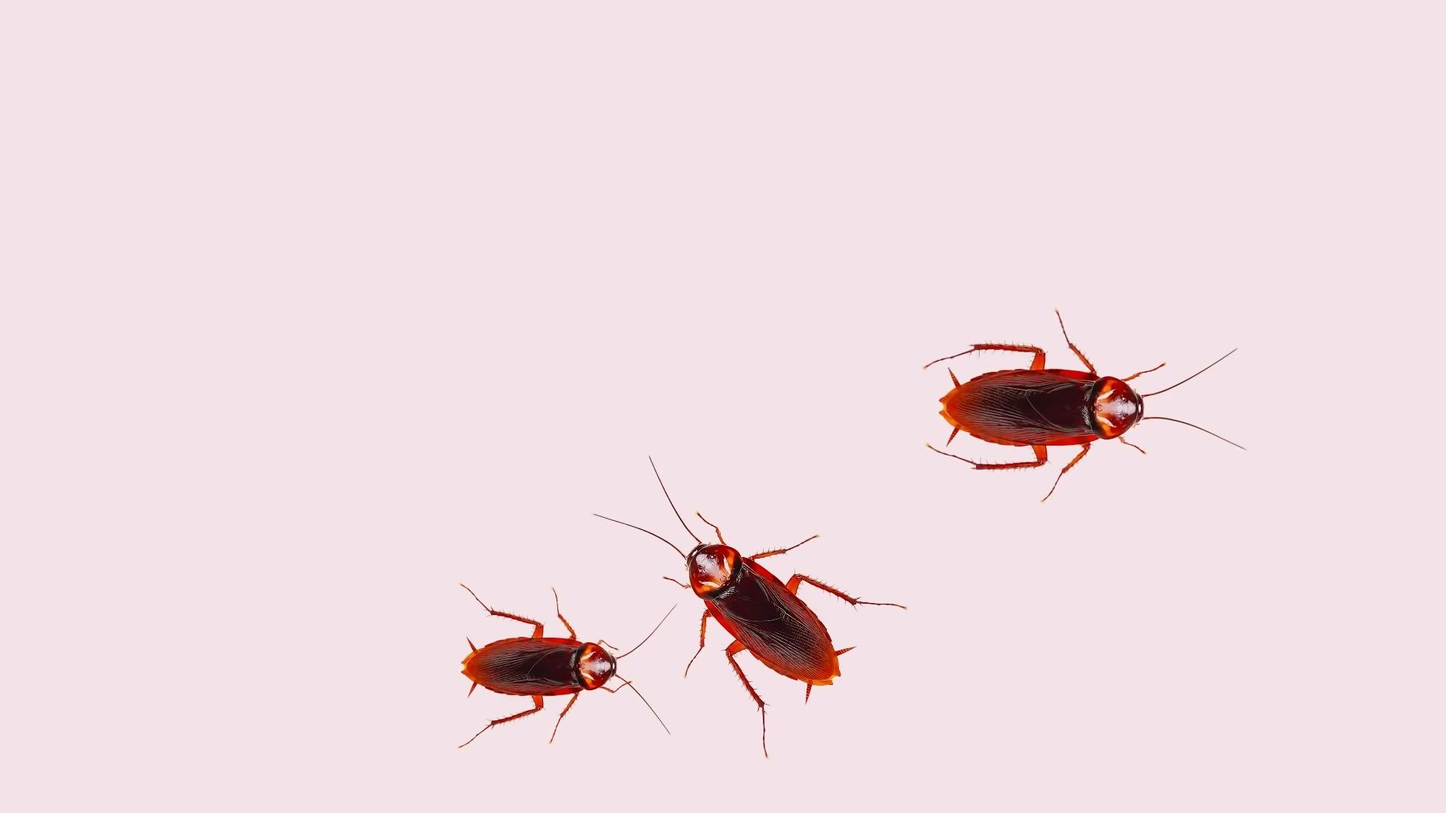cockroach: (664, 470, 906, 746), (915, 317, 1264, 491), (403, 558, 670, 755)
